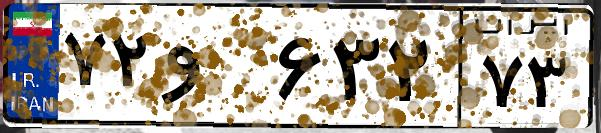2: (385, 28, 445, 110), (110, 28, 158, 98)
3: (330, 28, 385, 110), (525, 38, 570, 115)
6: (270, 28, 330, 110)
7: (57, 26, 110, 100), (475, 38, 525, 113)
و: (158, 20, 270, 120)
